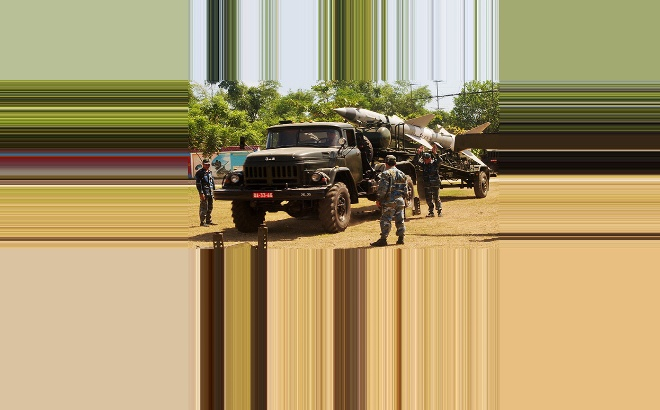plate: (250, 189, 276, 200)
